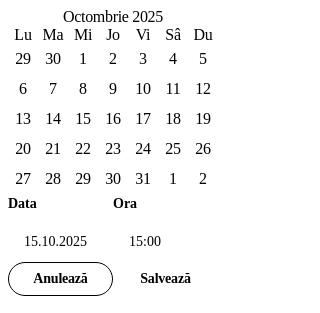
it: Calendar with time and actions › should jump the grid to a typed date
This screenshot has width=320, height=313.
Replace the text in the field labelled "Data" with "3.1.2026" at coordinates (60, 242), box [8,222,113,262]
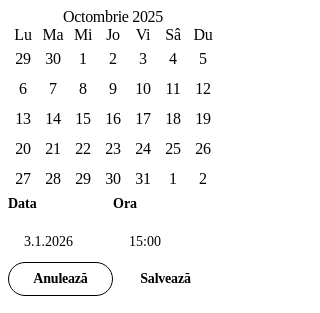
Leave the field labelled "Data", box [8,222,113,262]
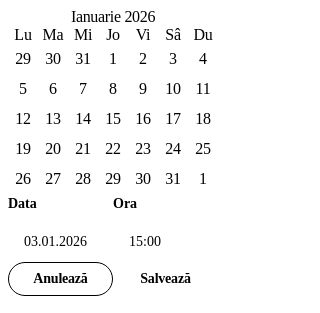
Check: the text with class "lz-calendar__title" reads "Ianuarie 2026", box [71,8,155,25]
Check: the field labelled "Data" holds "03.01.2026", box [8,222,113,262]
